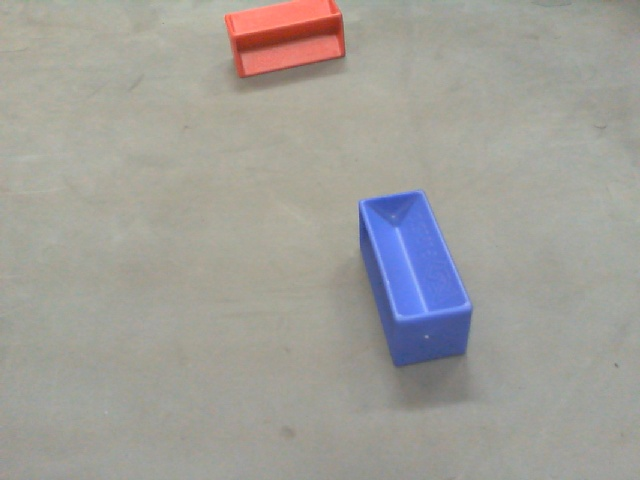BlueSample: (355, 185, 476, 372)
RedSample: (223, 1, 349, 82)
